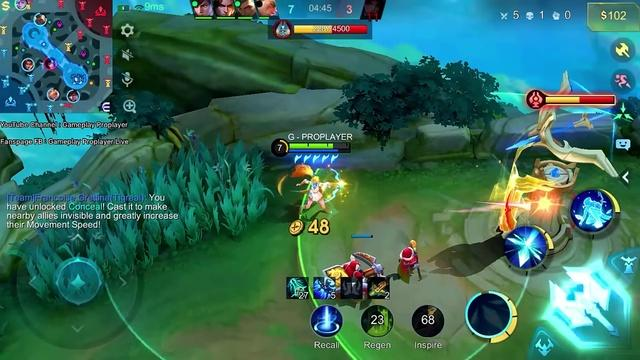Adc_Aliado: (14, 0, 28, 11)
Arbusto: (9, 142, 272, 300)
EXP_Lane: (100, 98, 111, 112)
Esbirro_Aliado: (324, 252, 383, 286), (398, 240, 418, 281)
Exp_Aliado: (46, 87, 60, 101)
Gold_Lane: (0, 0, 11, 12)
HP_Heroe_Principal: (289, 142, 349, 149)
Jungla_Aliado: (34, 12, 49, 28)
Mana: (289, 149, 351, 153)
Mid_Aliado: (66, 90, 82, 104)
Mid_Enemigo: (43, 57, 57, 71)
Minimapa: (0, 0, 114, 114)
Miya: (496, 110, 578, 249), (290, 164, 345, 212)
Roamer_Aliado: (22, 59, 36, 72)
Skill1: (465, 291, 517, 342)
Skill2: (503, 225, 553, 269)
Skill3: (569, 189, 619, 233)
Torre_Enemiga: (452, 108, 618, 251)
